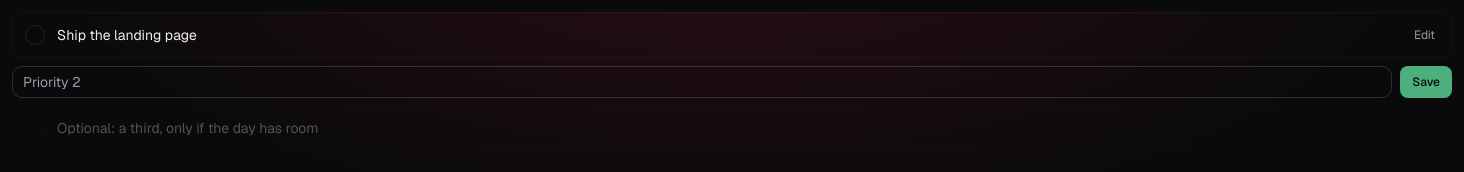
it: KillList › flips the toggle's visual state immediately, before setKillListItemCompleted resolves
Click the button with aria-label "Mark complete" at (127, 35), box [13, 13, 1402, 57]
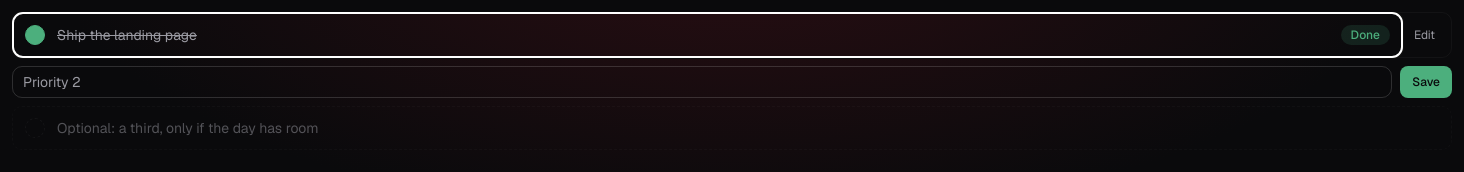
Expected: the button with aria-label "Mark incomplete" is shown, [13, 13, 1402, 57]
Expected: the text "Done" is shown, [1341, 25, 1390, 45]
